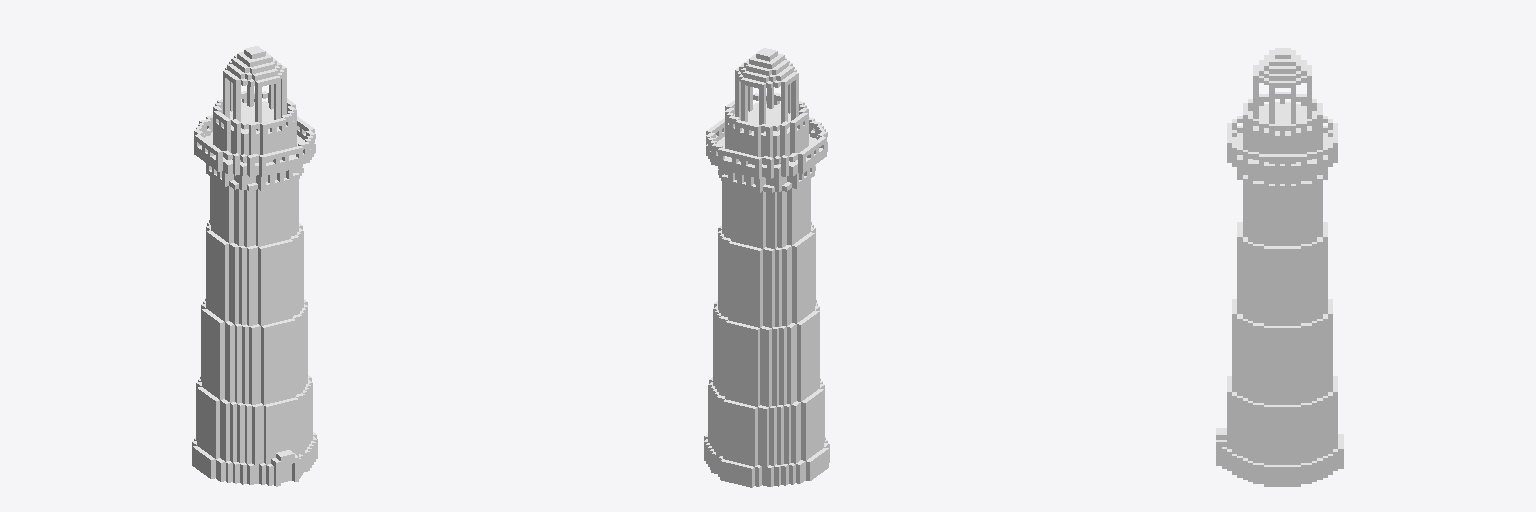
Rendered from Lighthouse.obj.
3 views of the same model, side by side, from view 1: azimuth 30°, elevation 25°; view 2: azimuth 150°, elevation 25°; view 3: azimuth 270°, elevation 25° (orthographic).
Parts seen in each view (by area): view 1: Lighthouse; view 2: Lighthouse; view 3: Lighthouse.
Part boxes in pixels (bbox=[...]): Lighthouse: bbox=[192, 46, 317, 486]; Lighthouse: bbox=[704, 48, 829, 487]; Lighthouse: bbox=[1216, 48, 1343, 486].
Bounding box in the file's own units: 23 × 85 × 24.